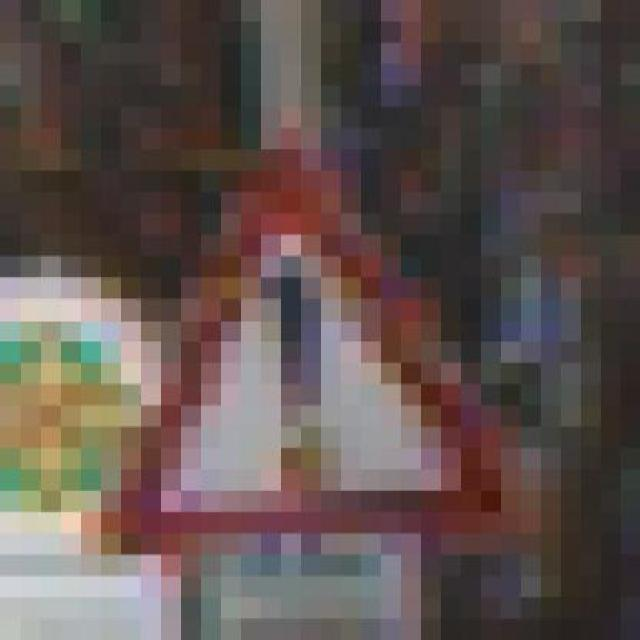Attention Please-: (78, 129, 558, 576)
